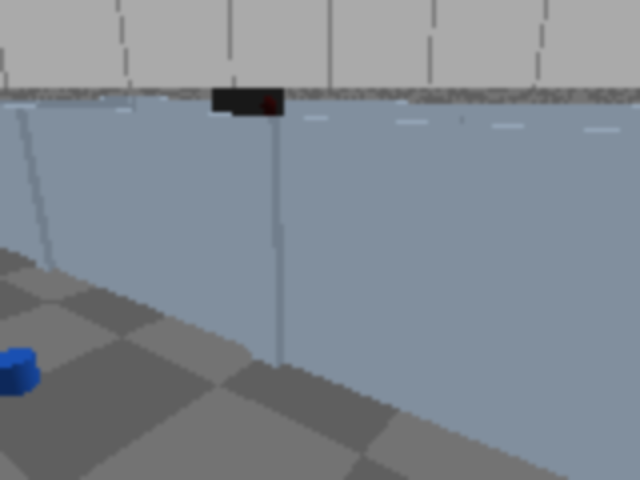puck: (0, 347, 36, 397)
